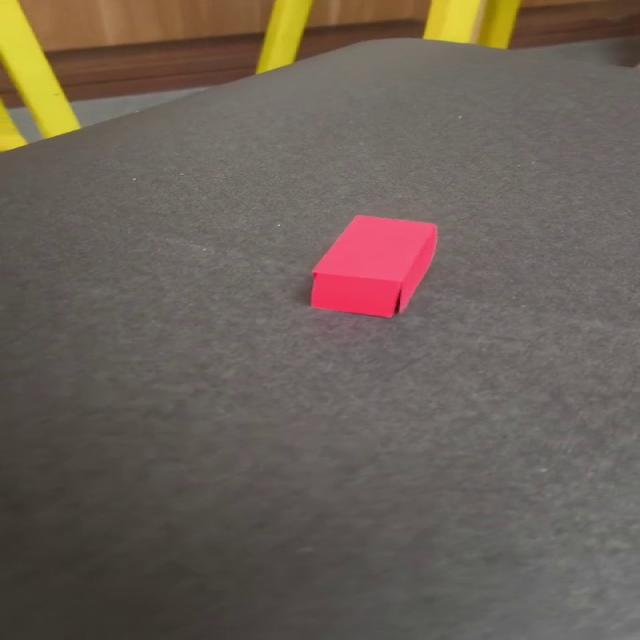red block: (308, 214, 439, 318)
